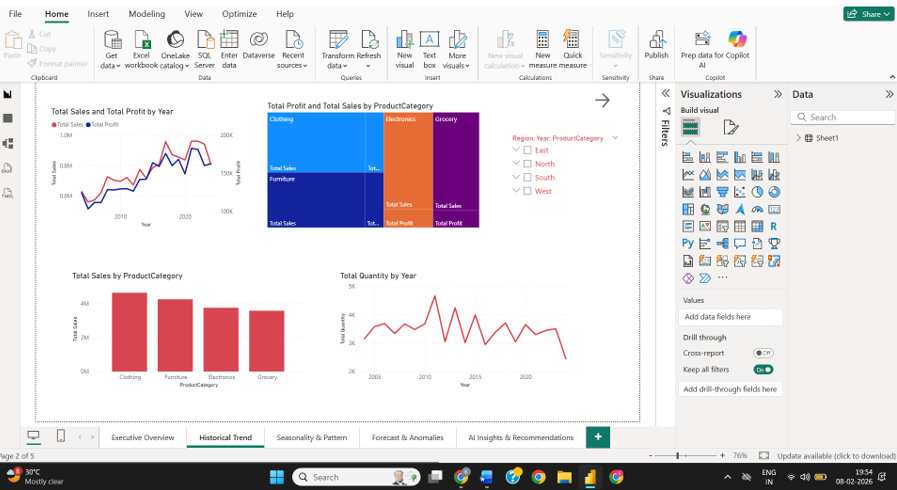

This screenshot's page, from the dashboard's own definition file:
{"tool":"powerbi","page":{"name":"Historical Trend","canvas":[1280,720],"ordinal":1},"visuals":[{"type":"lineChart","fields":{"Category":["Sheet1.OrderDate.Variation.Date Hierarchy.Year"],"Y":["Sheet1.Total Sales"],"Y2":["Sheet1.Total Profit"]},"box":[27.5,52.4,412.3,261.8],"z":0},{"type":"lineChart","fields":{"Category":["Sheet1.OrderDate.Variation.Date Hierarchy.Year"],"Y":["Sheet1.Total Quantity"]},"box":[640,400.5,501.3,252.6],"z":1000},{"type":"columnChart","fields":{"Category":["Sheet1.ProductCategory"],"Y":["Sheet1.Total Sales"]},"box":[72,400.5,501.3,252.6],"z":2000},{"type":"slicer","fields":{"Values":["Sheet1.Region","Sheet1.Year","Sheet1.ProductCategory"]},"box":[997.4,106,250,167.5],"z":3000},{"type":"actionButton","box":[1180.6,19.6,99.5,40.6],"z":4000},{"type":"treemap","fields":{"Group":["Sheet1.ProductCategory","Sheet1.Region"],"Values":["Sheet1.Total Profit","Sheet1.Total Sales"]},"box":[485.6,40.6,459.4,273.6],"z":5000}]}

Visuals, with their boxes on the page's 1280x720 design canvas (x1, y1, x2, y2). These are canvas units, not pixel positions in the 897x490 screenshot, which may show the page scaled, cropped or inside an application window:
lineChart - Sheet1.OrderDate.Variation.Date Hierarchy.Year x Sheet1.Total Sales: BBox(28, 52, 440, 314)
lineChart - Sheet1.OrderDate.Variation.Date Hierarchy.Year x Sheet1.Total Quantity: BBox(640, 400, 1141, 653)
columnChart - Sheet1.ProductCategory x Sheet1.Total Sales: BBox(72, 400, 573, 653)
slicer - Sheet1.Region x Sheet1.Year: BBox(997, 106, 1247, 274)
actionButton: BBox(1181, 20, 1280, 60)
treemap - Sheet1.ProductCategory x Sheet1.Region: BBox(486, 41, 945, 314)
